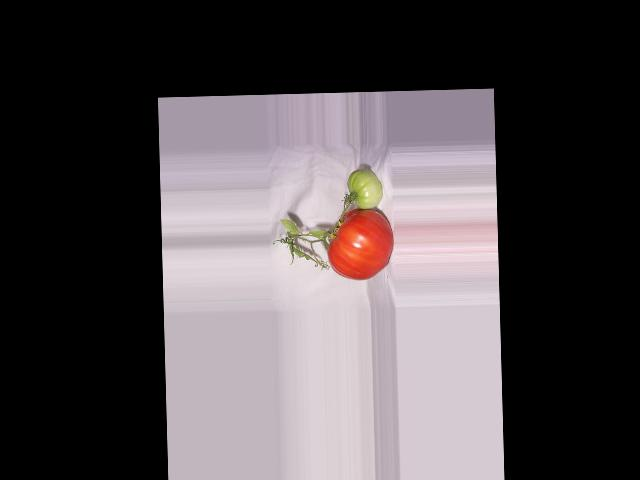tomato: (326, 207, 394, 281)
